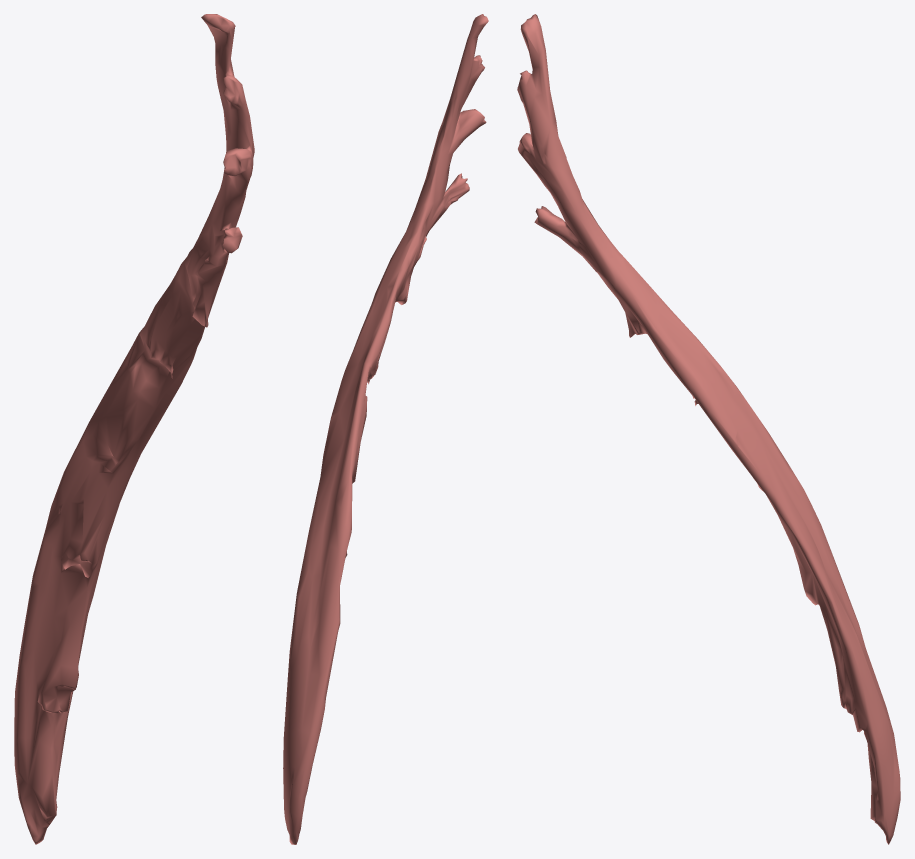
3 renders of one model, left to right at view 1: azimuth 30°, elevation 25°; view 2: azimuth 150°, elevation 25°; view 3: azimuth 270°, elevation 25°, orthographic. The views are drawn at different scales.
Parts seen in each view (by area): view 1: ZA_75e184db2f932df9; view 2: ZA_75e184db2f932df9; view 3: ZA_75e184db2f932df9.
Boxes of the visible parts, bbox=[...] form: ZA_75e184db2f932df9: bbox=[14, 14, 254, 844]; ZA_75e184db2f932df9: bbox=[283, 14, 488, 844]; ZA_75e184db2f932df9: bbox=[517, 14, 900, 844].
Bounding box in the file's own units: 0.0191 × 0.1894 × 0.0812.
